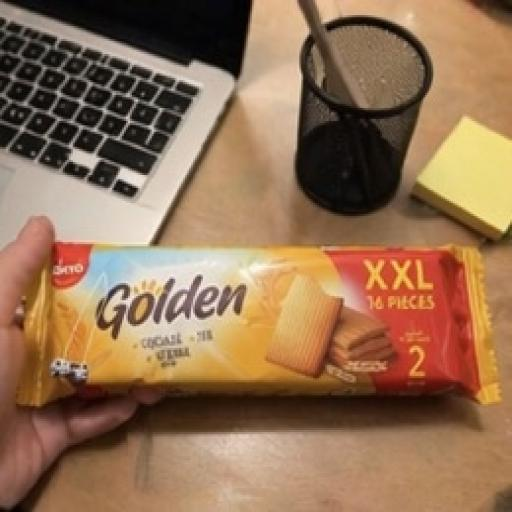golden: (10, 152, 509, 448)
